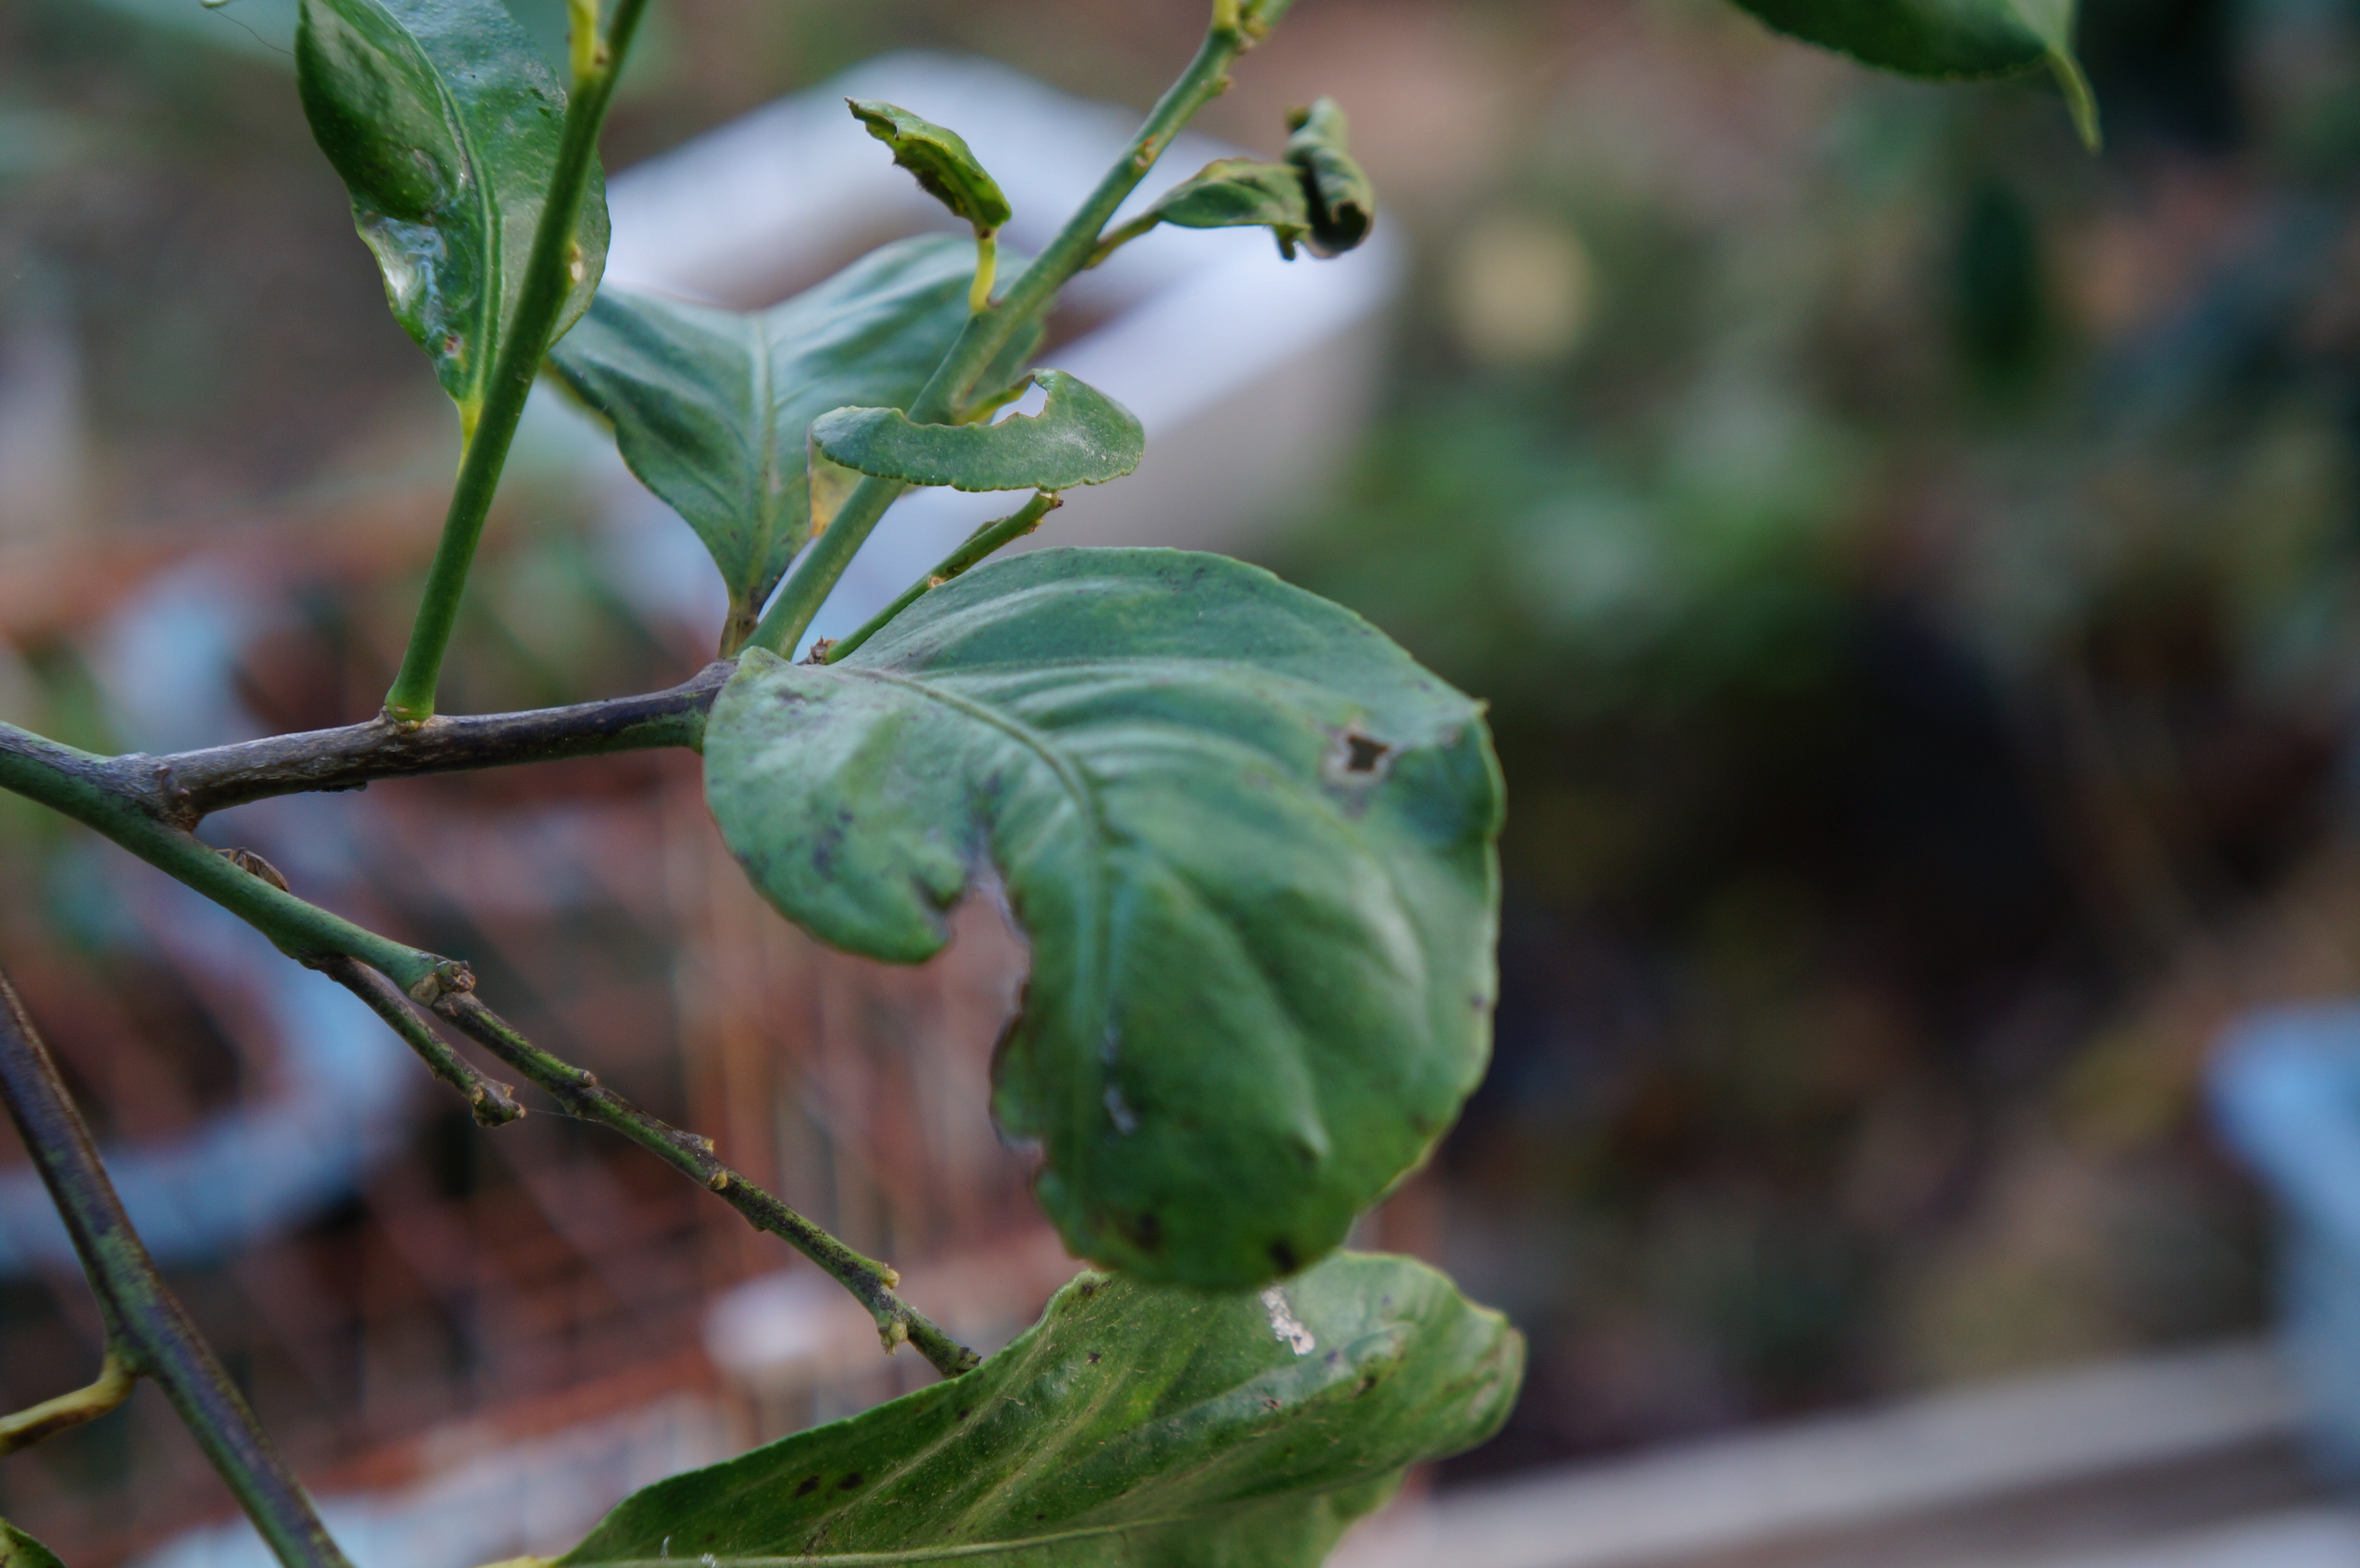curly: (1128, 89, 1398, 271), (833, 82, 1027, 252)
damage: (336, 129, 486, 399), (1233, 1253, 1333, 1375)
